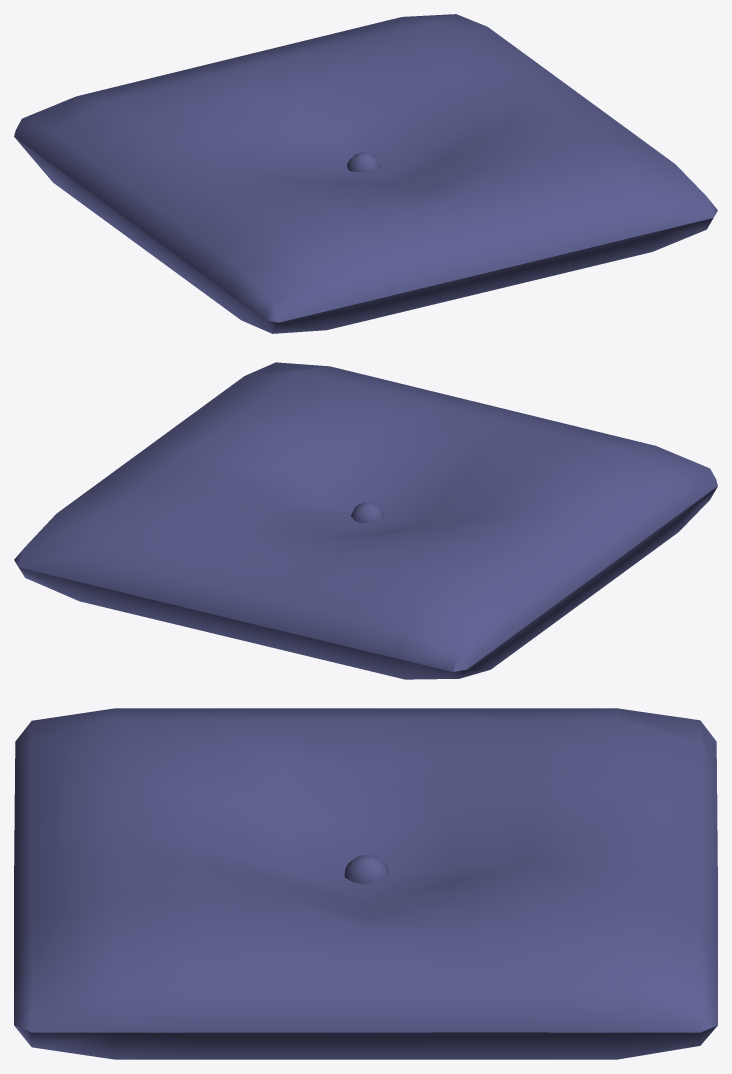
Rendered from cushion.glb.
3 views of the same model, one above another, from view 1: azimuth 30°, elevation 25°; view 2: azimuth 150°, elevation 25°; view 3: azimuth 270°, elevation 25° (orthographic). The views are drawn at different scales.
Visible parts, largest first — view 1: cushion; view 2: cushion; view 3: cushion.
Boxes of the visible parts, box(x1,y1,x2,y2) form: cushion: box(14, 14, 717, 333); cushion: box(14, 362, 717, 679); cushion: box(14, 708, 717, 1059).
Size of the model in its own units: 0.0223 by 0.00447 by 0.0225.
